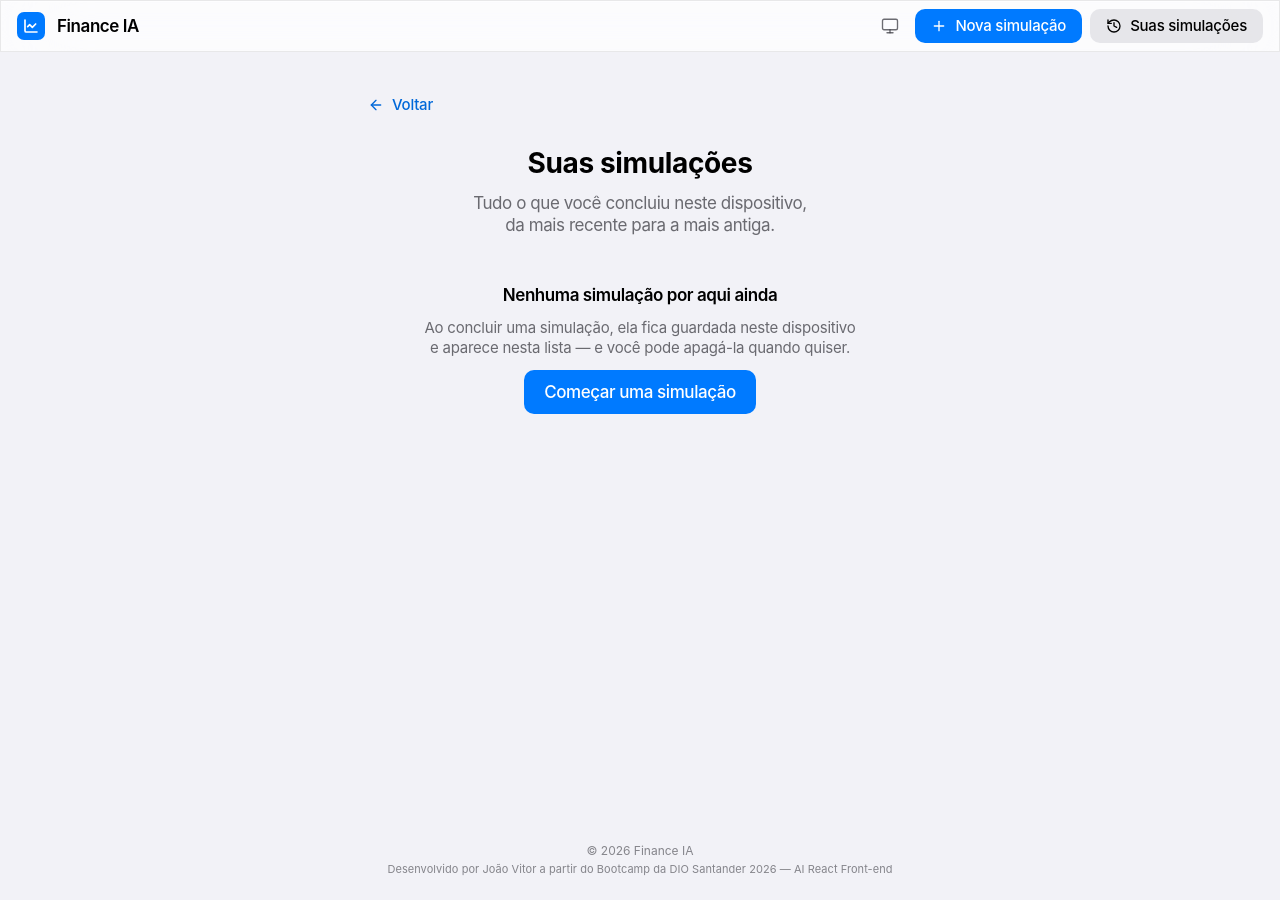
histórico e navegação › AC-037: Sem tela anterior, voltar leva à apresentação @spec:AC-037
Link direto ou favorito: `/historico` é a primeira entrada da pilha.
Click the button "Voltar". click: coordinates (400, 105)
box: top-left (352, 88), bottom-right (449, 122)
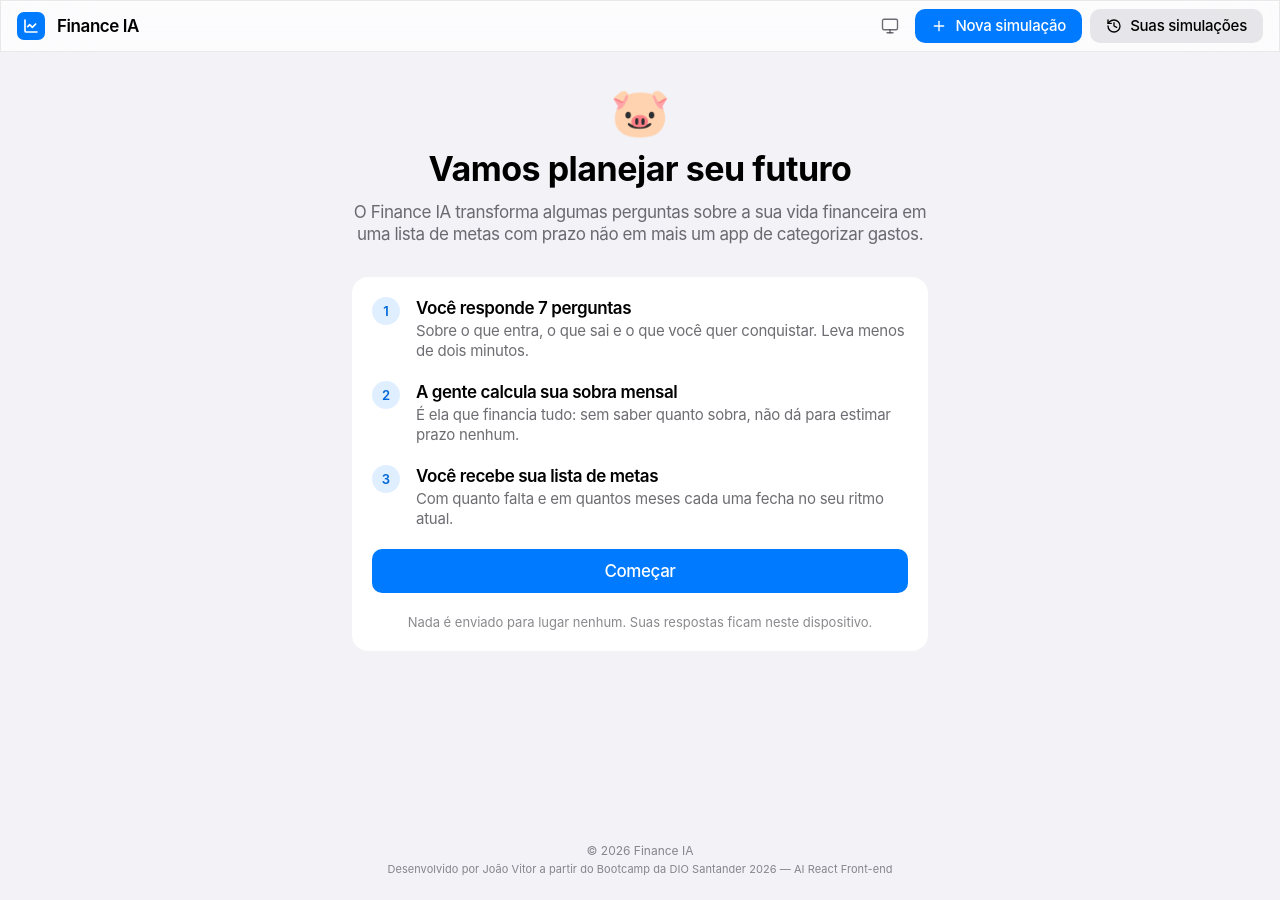
Expected: the heading "Vamos planejar seu futuro" is shown, top-left (429, 148), bottom-right (852, 189)
